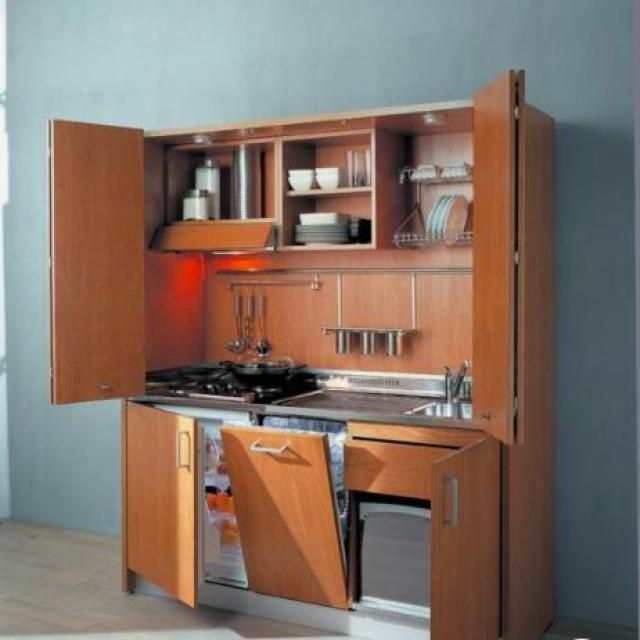dishwasher: (216, 410, 355, 605)
